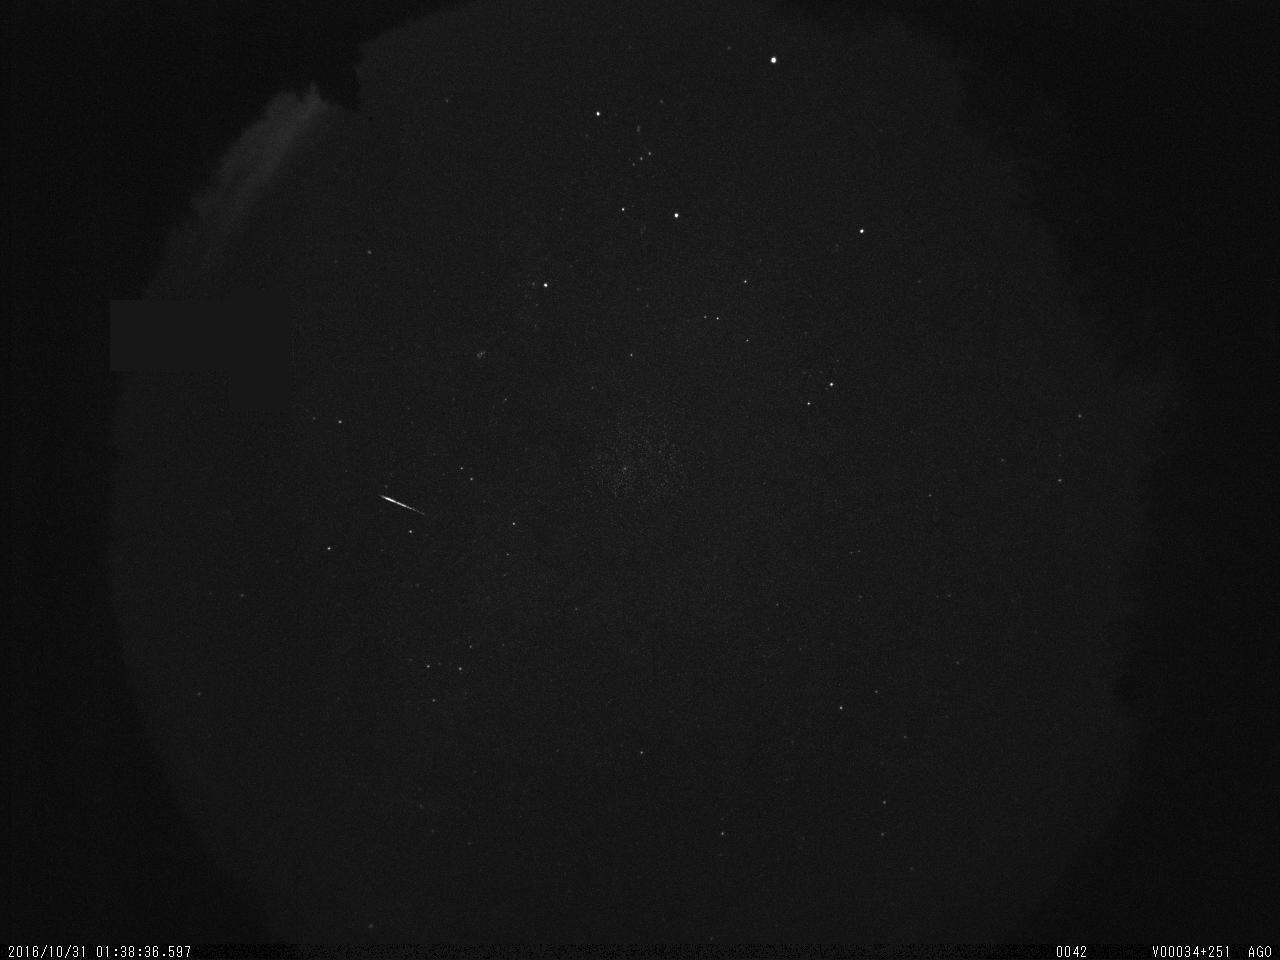Meteor: (375, 491, 426, 519)
